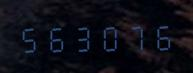five: (17, 21, 42, 53)
seven: (122, 19, 147, 52)
six: (43, 20, 68, 53), (148, 19, 173, 51)
three: (70, 20, 95, 53)
zero: (96, 20, 121, 52)
